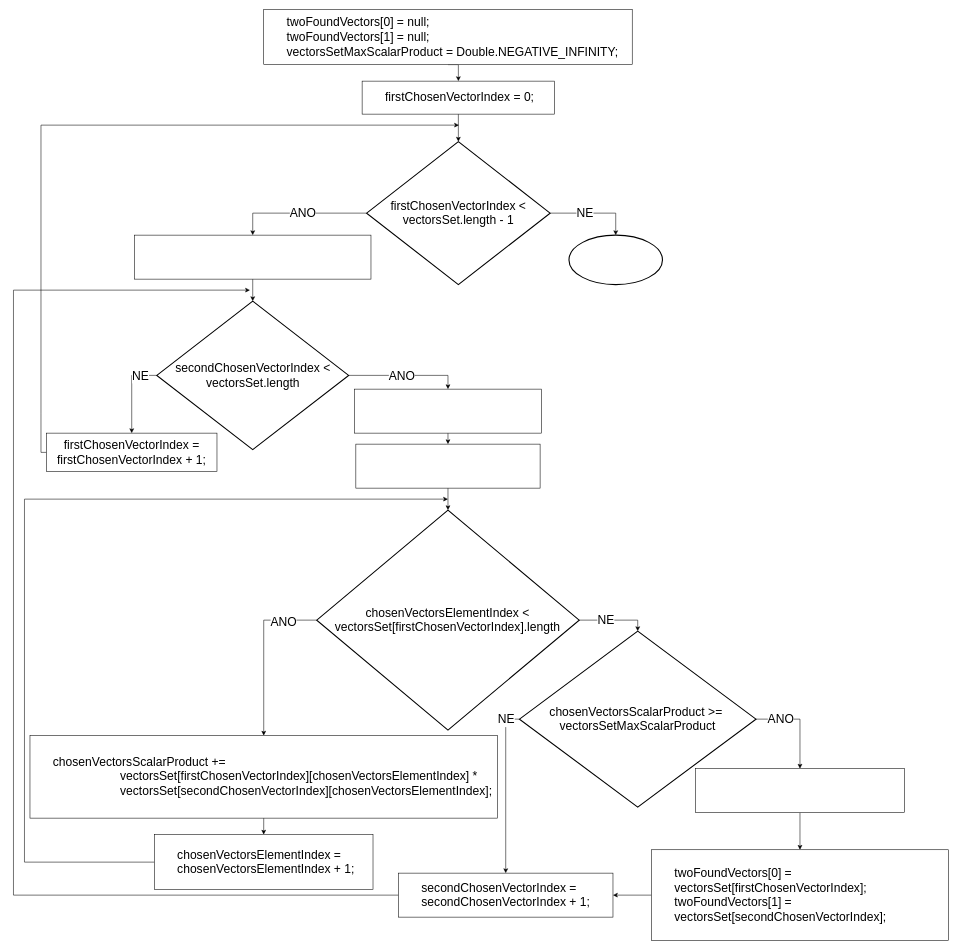
The diagram is 958 pixels wide and 950 high, and some of its shapes have lost their labels. The shapes that lost their labels are listed below. From the top down, each one's centre as x and y in pixels, then its label:
At (x=252, y=257): "secondChosenVectorIndex = firstChosenVectorIndex + 1;".
At (x=615, y=259): "KONEC".
At (x=447, y=411): "chosenVectorsScalarProduct = 0;".
At (x=447, y=466): "chosenVectorsElementIndex = 0;".
At (x=799, y=790): "vectorsSetMaxScalarProduct = chosenVectorsScalarProduct;".
